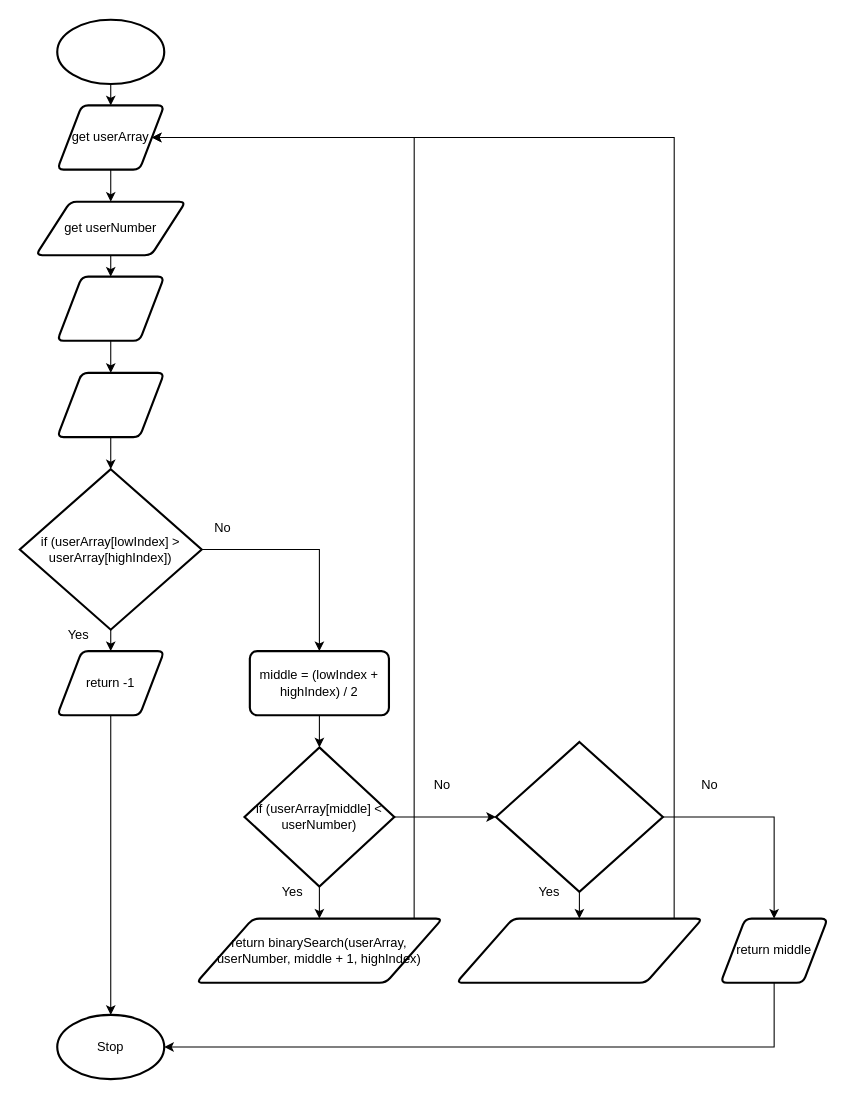
This 846x1098 diagram has some shape labels left out. Each missing label, with the box of its shape:
get highIndex: (56, 371, 165, 438)
get lowIndex: (56, 275, 165, 341)
if (userArray[middle] > userNumber): (494, 740, 663, 892)
return binarySearch(userArray, userNumber, lowIndex, middle - 1): (455, 917, 703, 983)
Start: (56, 18, 165, 85)
